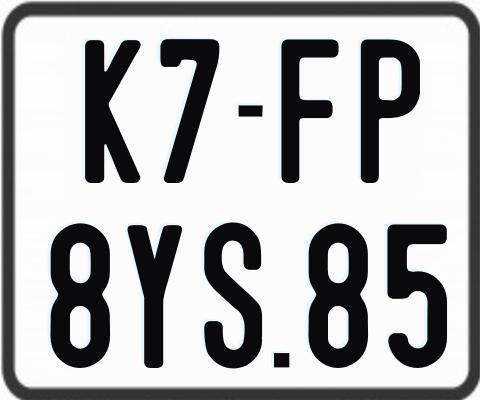5: (386, 221, 448, 368)
7: (160, 37, 222, 186)
8: (48, 221, 114, 372), (307, 223, 372, 372)
F: (279, 36, 339, 184)
K: (85, 38, 147, 181)
P: (361, 38, 424, 182)
S: (204, 221, 263, 373)
Y: (125, 222, 185, 368)
